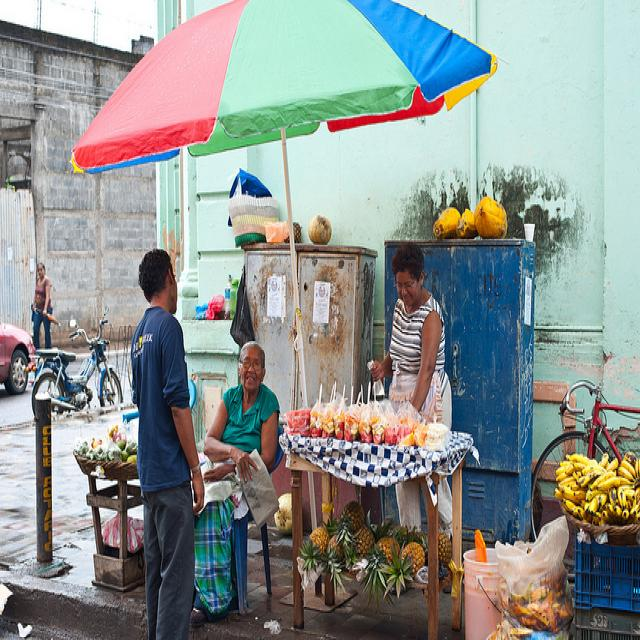motor: (26, 306, 123, 415)
